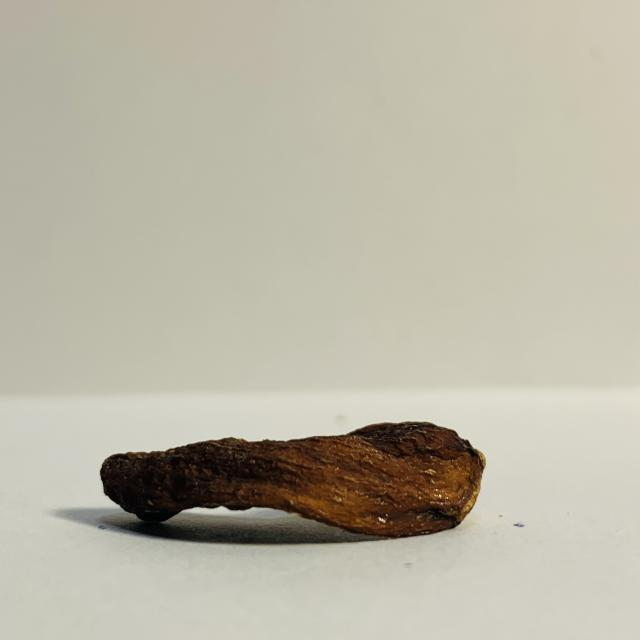Flat_cocoabeans: (12, 388, 538, 577)
